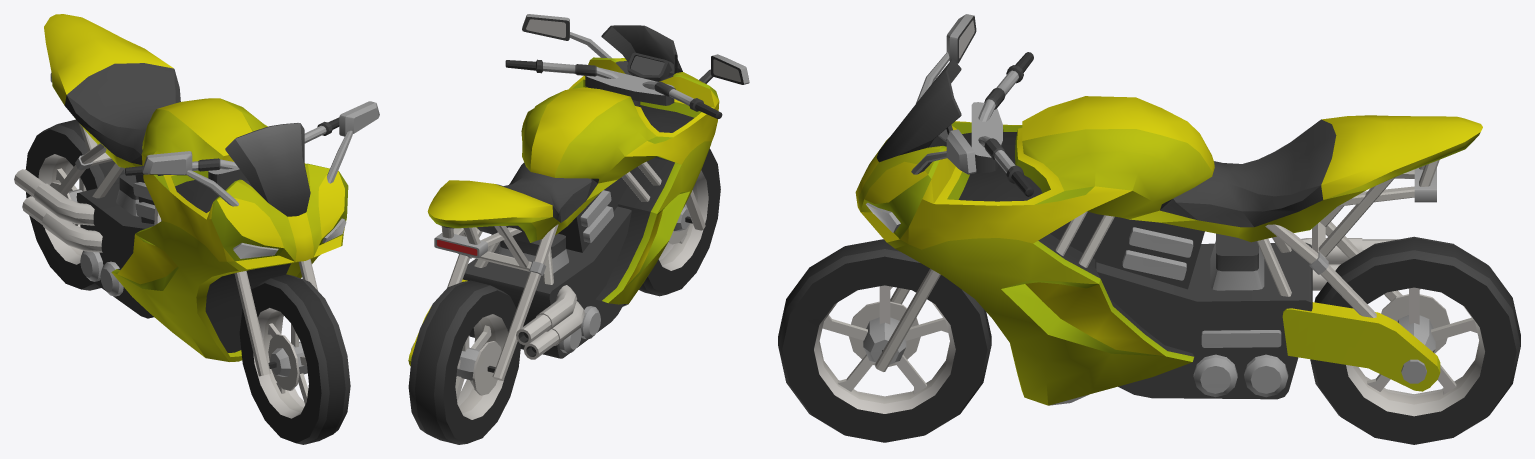
File: Motobike_4.fbx
The picture shows the model from 3 angles, left to right: view 1: azimuth 30°, elevation 25°; view 2: azimuth 150°, elevation 25°; view 3: azimuth 270°, elevation 25°; orthographic projection. The views are drawn at different scales.
Parts seen in each view (by area): view 1: Motobike_4, Motobike_4_Tire_1, Motobike_4_Tire_2; view 2: Motobike_4, Motobike_4_Tire_2, Motobike_4_Tire_1; view 3: Motobike_4, Motobike_4_Tire_1, Motobike_4_Tire_2.
Boxes of the visible parts, <box> form: Motobike_4: <box>14,14,379,376</box>; Motobike_4_Tire_1: <box>239,274,350,444</box>; Motobike_4_Tire_2: <box>25,119,125,290</box>; Motobike_4: <box>408,14,749,380</box>; Motobike_4_Tire_2: <box>408,280,520,444</box>; Motobike_4_Tire_1: <box>639,148,720,296</box>; Motobike_4: <box>855,14,1482,405</box>; Motobike_4_Tire_1: <box>778,239,991,442</box>; Motobike_4_Tire_2: <box>1310,236,1520,444</box>.
Size of the model in its own units: 138 by 162 by 298.
